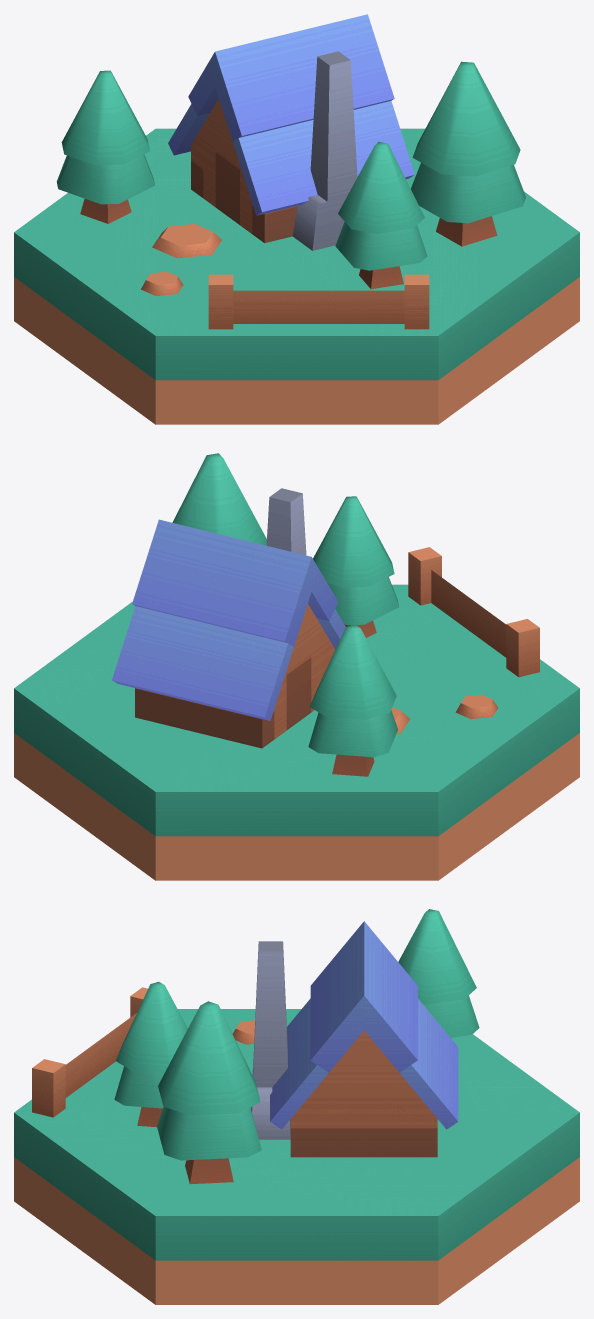
The model's file is building-house_lev2.glb.
3 views of the same model, one above another, from view 1: azimuth 30°, elevation 25°; view 2: azimuth 150°, elevation 25°; view 3: azimuth 270°, elevation 25° (orthographic).
Parts seen in each view (by area): view 1: building-house_lev2; view 2: building-house_lev2; view 3: building-house_lev2.
Boxes of the visible parts, x1=… form: building-house_lev2: x1=14, y1=14, x2=579, y2=424; building-house_lev2: x1=14, y1=453, x2=579, y2=880; building-house_lev2: x1=14, y1=909, x2=579, y2=1304.
Bounding box in the file's own units: 10 × 6 × 11.55.
1 material, 1 textured.
